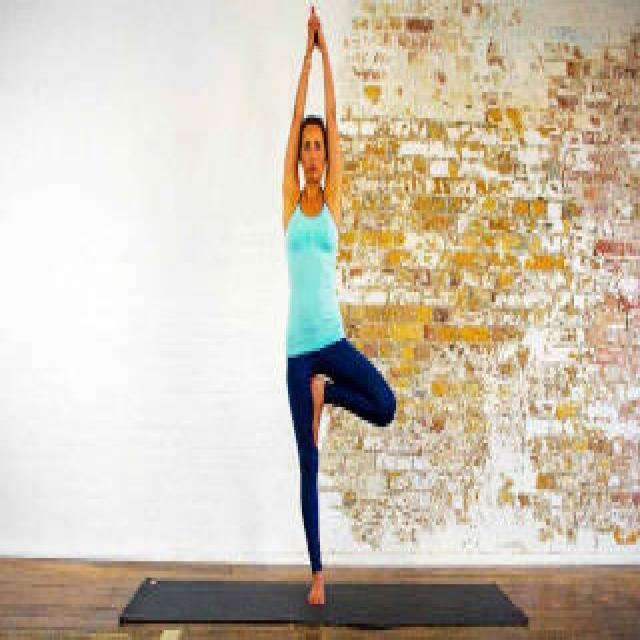yoga-pose tree: (274, 4, 398, 602)
